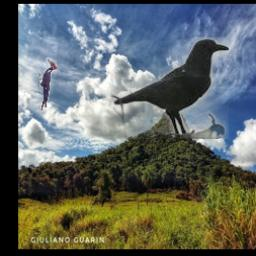Crow: (111, 37, 229, 139)
Woodpecker: (38, 58, 57, 111)
